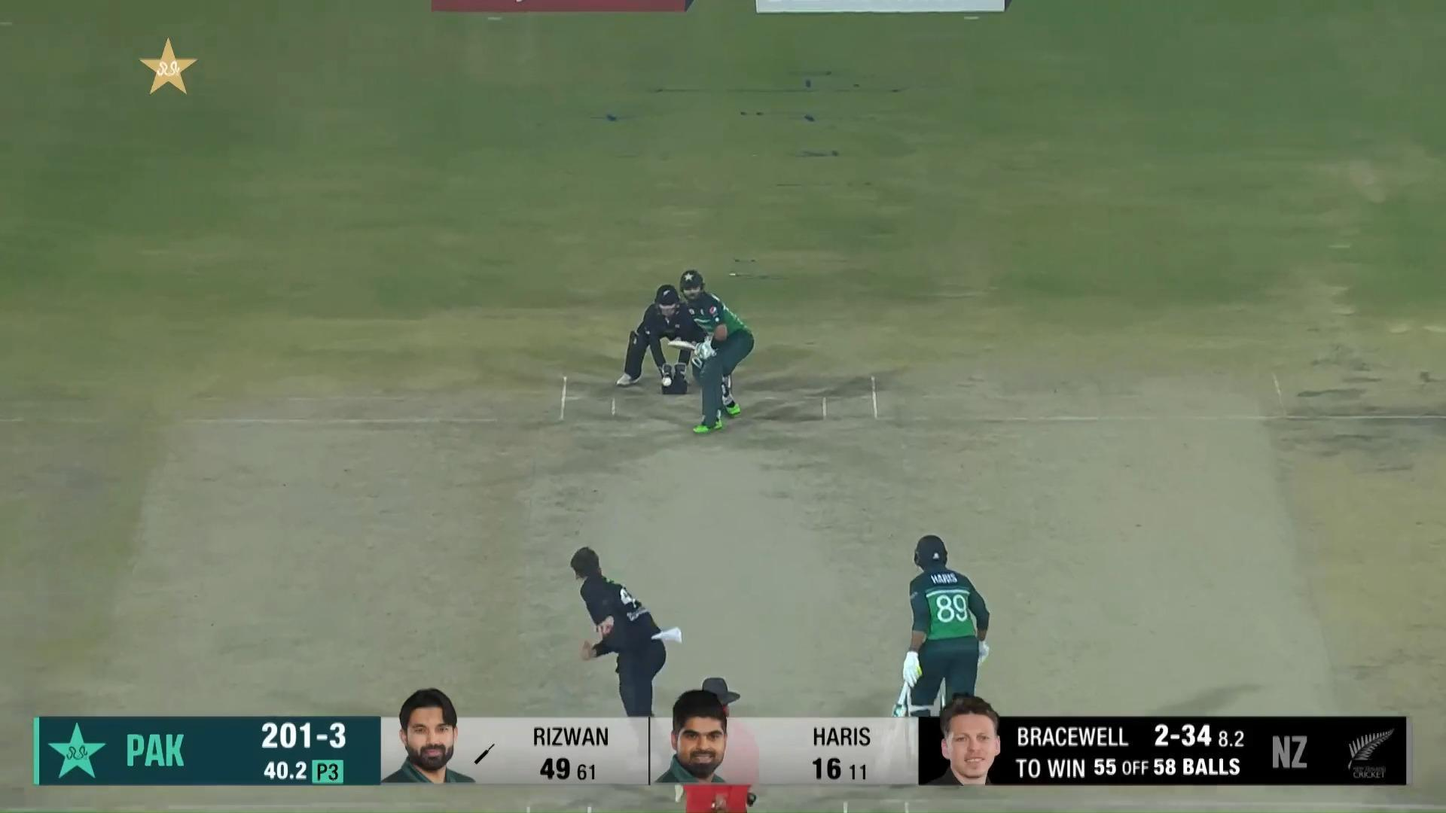BM 1: (666, 269, 755, 436)
BO: (570, 545, 684, 718)
